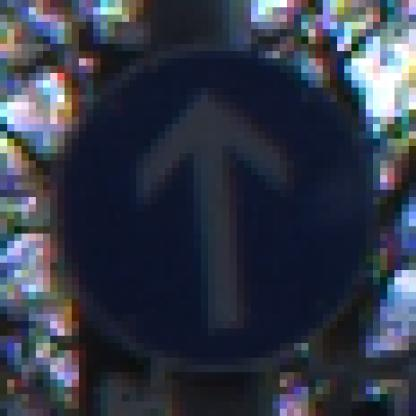AheadOnly: (44, 38, 381, 381)
